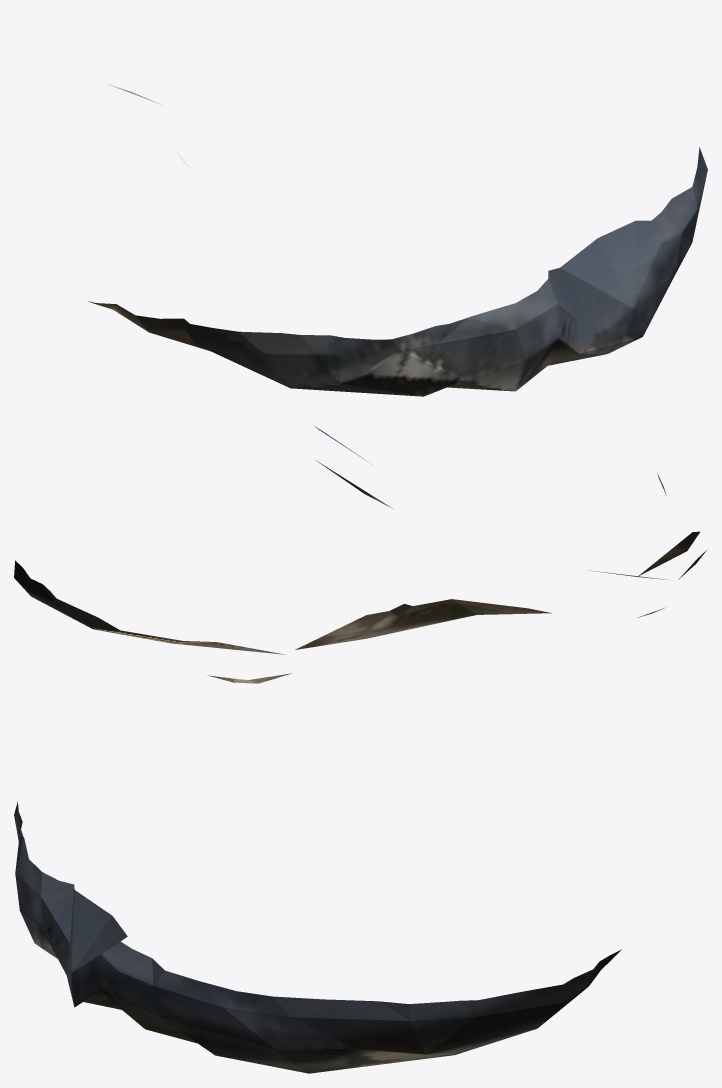
3 views of the same model, one above another, from view 1: azimuth 30°, elevation 25°; view 2: azimuth 150°, elevation 25°; view 3: azimuth 270°, elevation 25° (orthographic). The views are drawn at different scales.
Size of the model in its own units: 0.4103 by 0.0701 by 0.41.
1 material, 1 textured.
